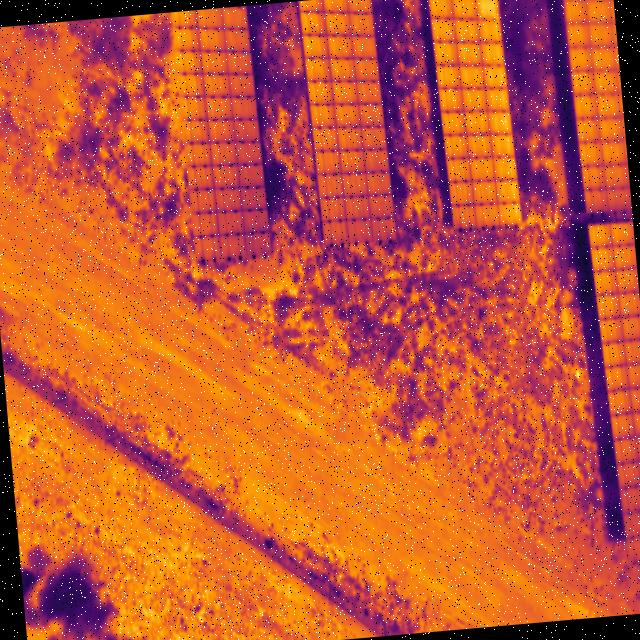Hotspot: (477, 0, 499, 20)
